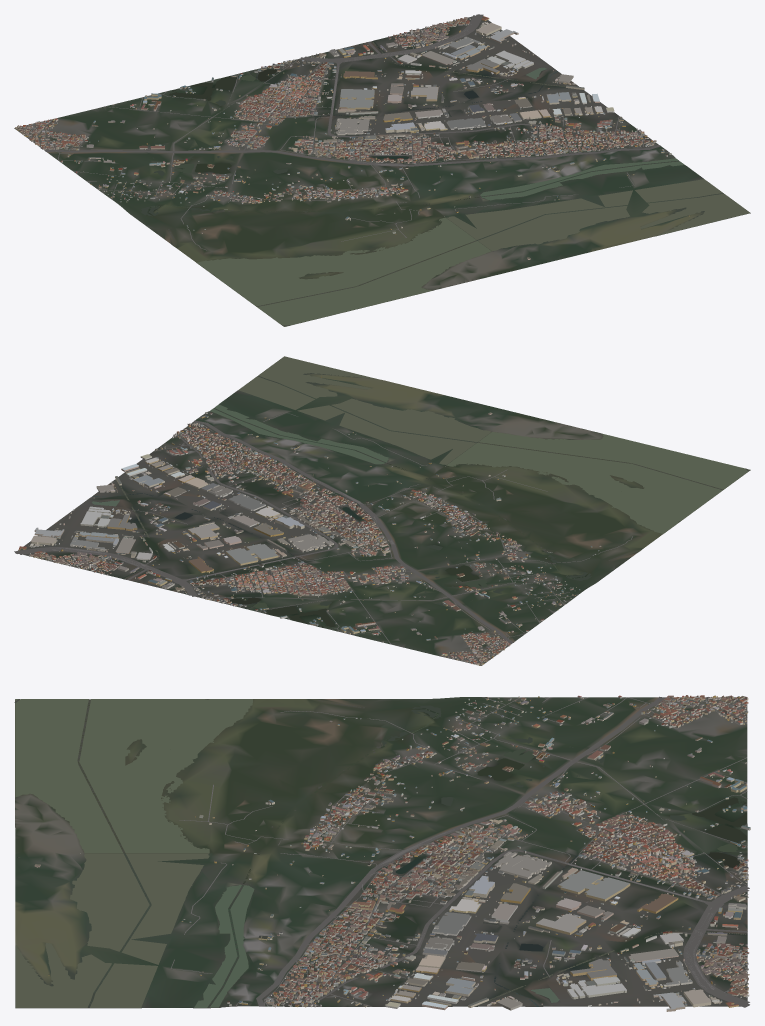
3 views of the same model, one above another, from view 1: azimuth 30°, elevation 25°; view 2: azimuth 150°, elevation 25°; view 3: azimuth 270°, elevation 25° (orthographic). The views are drawn at different scales.
Visible parts, largest first — view 1: ground, buildings, water, roads; view 2: ground, buildings, water, roads; view 3: ground, water, buildings, roads.
Part boxes in pixels (box(x1,y1,x2,y2)): ground: box(14, 16, 750, 326); buildings: box(15, 16, 689, 259); water: box(141, 41, 749, 326); roads: box(14, 14, 668, 250); ground: box(18, 365, 750, 665); buildings: box(18, 376, 601, 665); water: box(92, 356, 750, 627); roads: box(14, 412, 632, 665); ground: box(15, 697, 747, 1008); water: box(14, 699, 747, 1007); buildings: box(34, 695, 750, 1011); roads: box(170, 696, 749, 1007).
Size of the model in its own units: 2853 by 33.78 by 2821.
